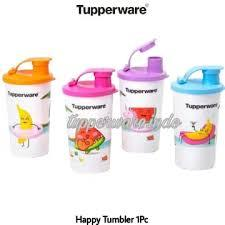BIODEGRADABLE: (116, 35, 168, 156), (64, 59, 116, 176), (172, 51, 222, 172), (4, 48, 54, 164)
